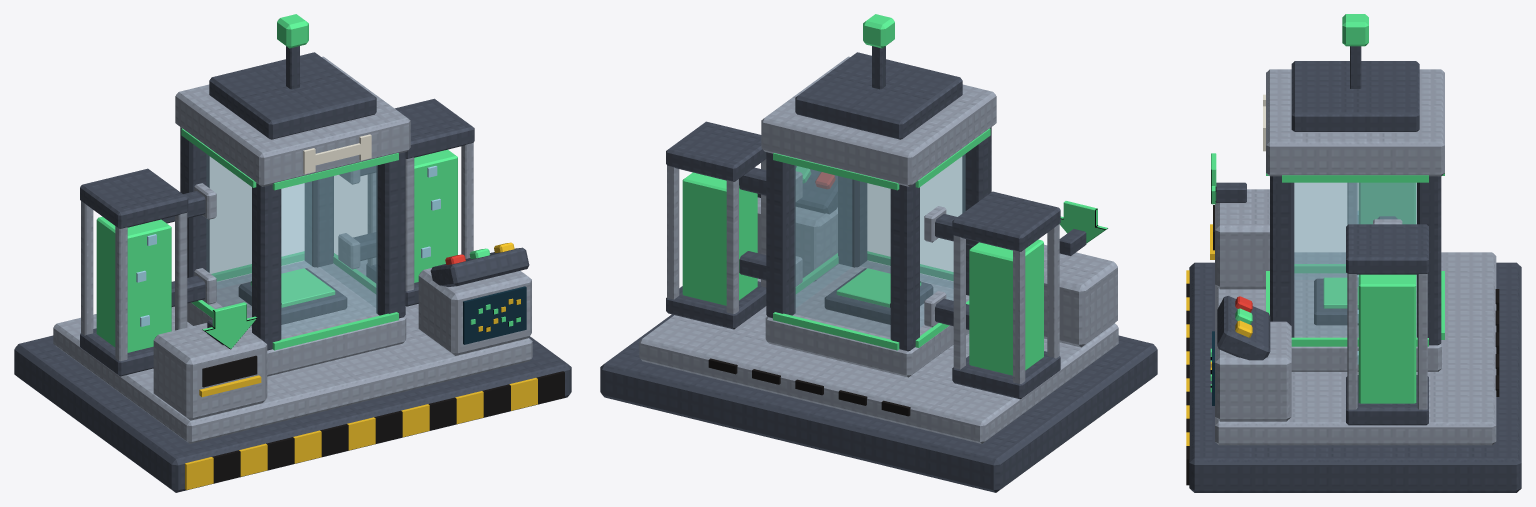
The model's file is machine_fossiles.glb.
The picture shows the model from 3 angles, left to right: view 1: azimuth 30°, elevation 25°; view 2: azimuth 150°, elevation 25°; view 3: azimuth 270°, elevation 25°; orthographic projection. The views are drawn at different scales.
Visible parts, largest first — view 1: machine_fossiles, Vitre; view 2: machine_fossiles, Vitre; view 3: machine_fossiles, Vitre.
Part boxes in pixels (left/top/right/bottom): machine_fossiles: left=14, top=14, right=571, bottom=492; Vitre: left=206, top=154, right=377, bottom=337; machine_fossiles: left=600, top=14, right=1157, bottom=492; Vitre: left=794, top=154, right=965, bottom=337; machine_fossiles: left=1186, top=14, right=1521, bottom=492; Vitre: left=1294, top=182, right=1416, bottom=336.
Bounding box in the file's own units: 7.4 × 6.51 × 5.25.
2 materials, 1 textured.
